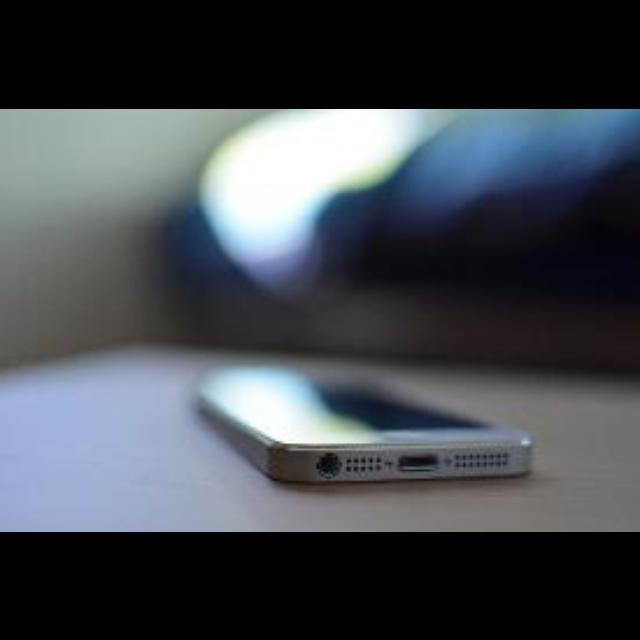PhoneUse: (196, 367, 534, 483)
